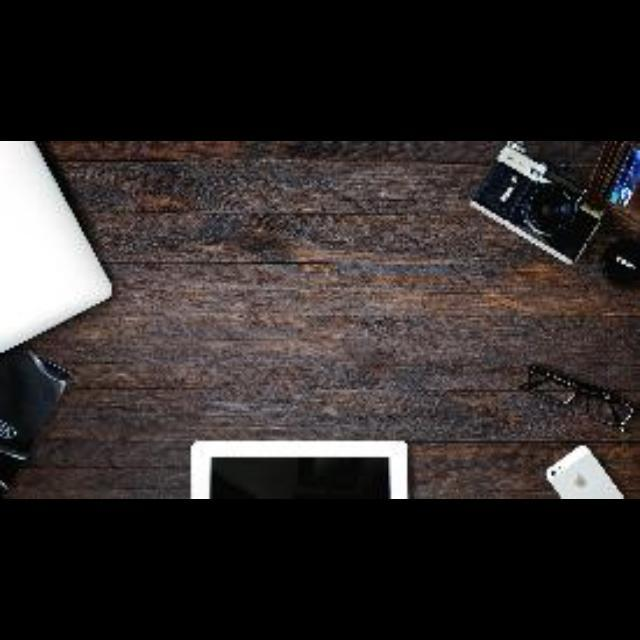Phone: (546, 446, 626, 499)
